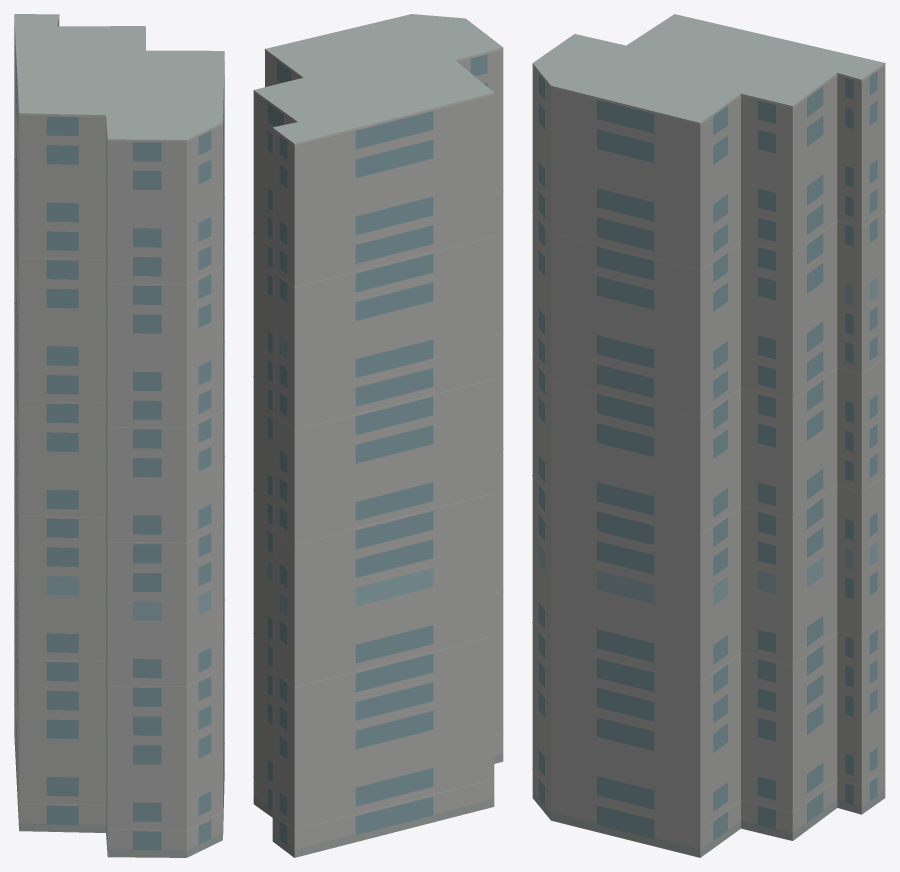
The model's file is survey-upis-32954590.glb.
3 views of the same model, side by side, from view 1: azimuth 30°, elevation 25°; view 2: azimuth 150°, elevation 25°; view 3: azimuth 270°, elevation 25° (orthographic). The views are drawn at different scales.
Visible parts, largest first — view 1: survey-upis-32954590.tmp; view 2: survey-upis-32954590.tmp; view 3: survey-upis-32954590.tmp.
Boxes of the visible parts, x1=… form: survey-upis-32954590.tmp: x1=14, y1=14, x2=224, y2=857; survey-upis-32954590.tmp: x1=253, y1=14, x2=503, y2=857; survey-upis-32954590.tmp: x1=532, y1=14, x2=885, y2=857.
Bounding box in the file's own units: 24.27 × 76.25 × 33.2.
